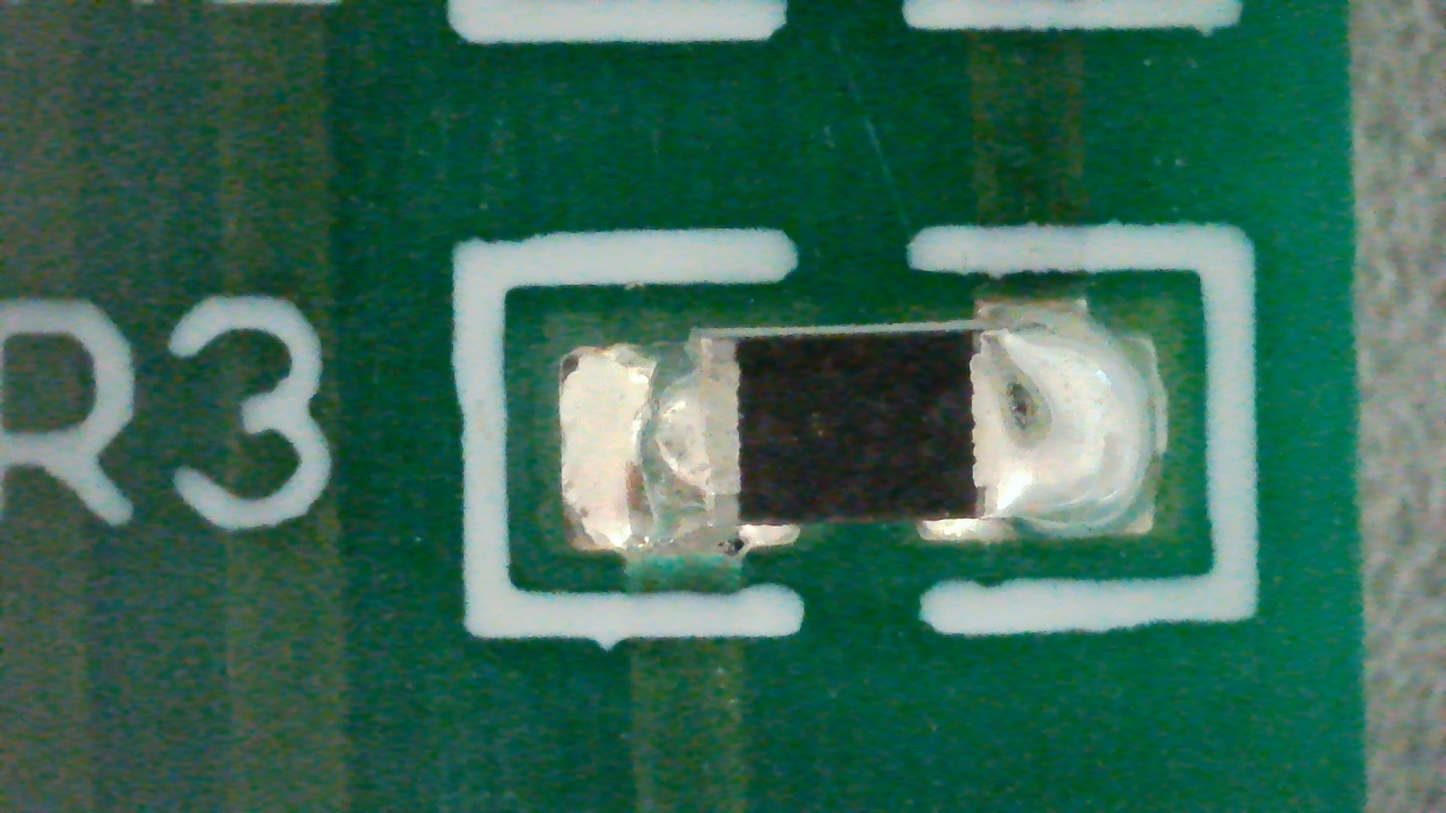NG: (563, 299, 1170, 561)
